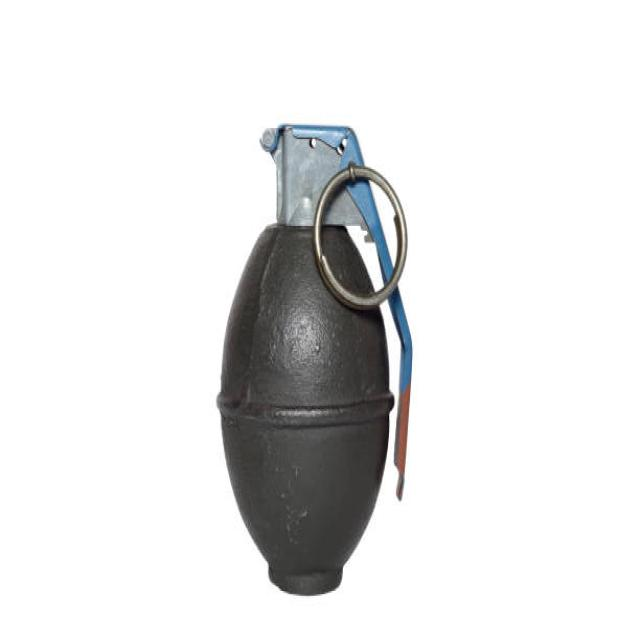grenade: (208, 112, 419, 609)
